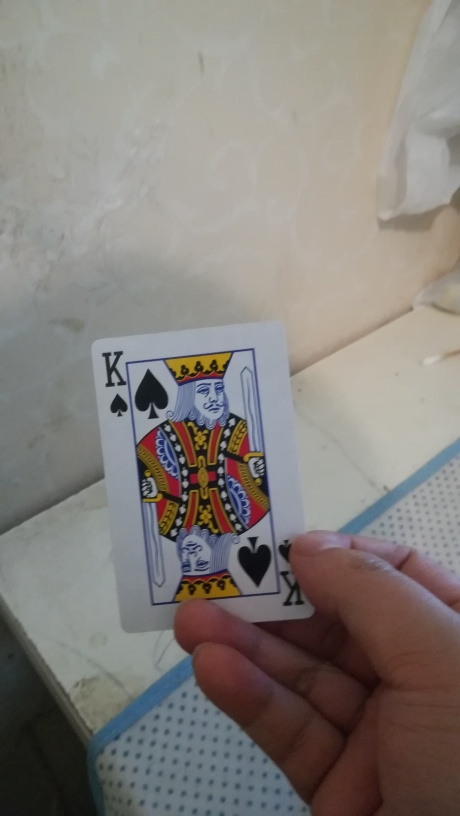ht k: (86, 317, 317, 637)
